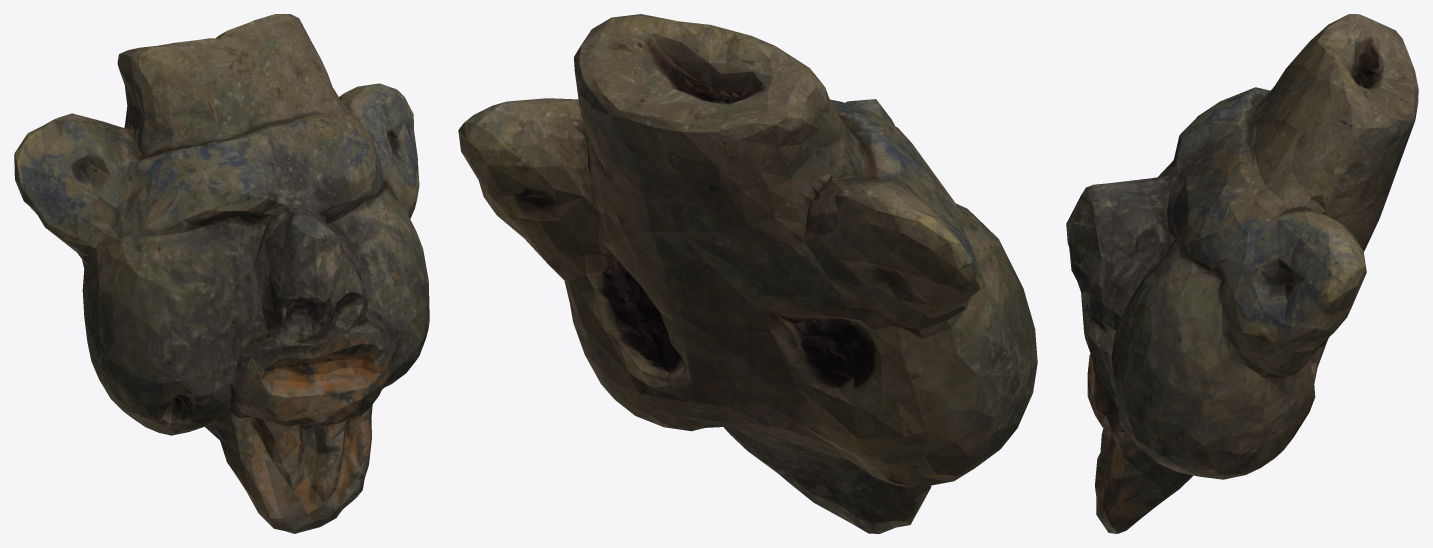
The picture shows the model from 3 angles, left to right: view 1: azimuth 30°, elevation 25°; view 2: azimuth 150°, elevation 25°; view 3: azimuth 270°, elevation 25°; orthographic projection. The views are drawn at different scales.
Parts seen in each view (by area): view 1: 1; view 2: 1; view 3: 1.
Part boxes in pixels (x1,y1,x2,y2): 1: (14, 14, 429, 533); 1: (458, 14, 1037, 533); 1: (1066, 14, 1418, 533).
Bounding box in the file's own units: 1.92 × 2.06 × 1.34.
Materials: 1 (1 with a texture image).
